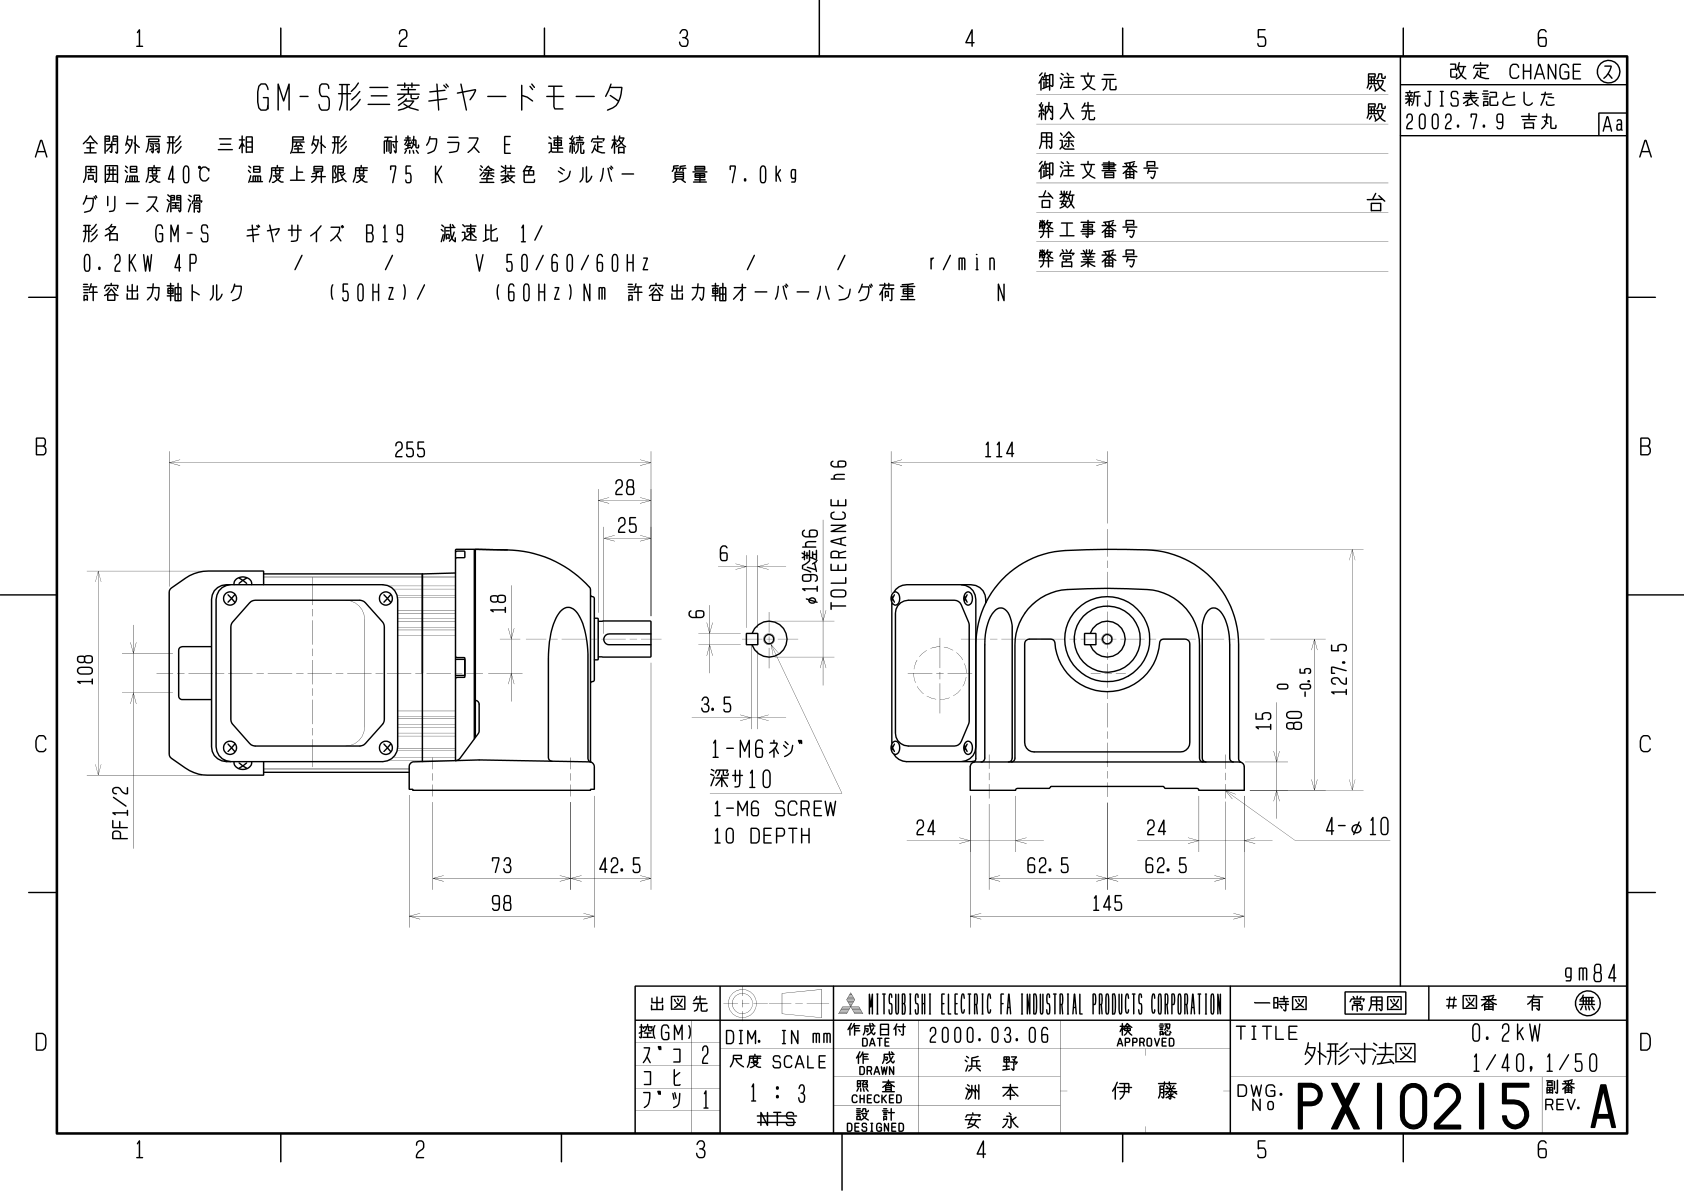GM_S_屋外＿三相_脚: (71, 410, 1397, 965)
